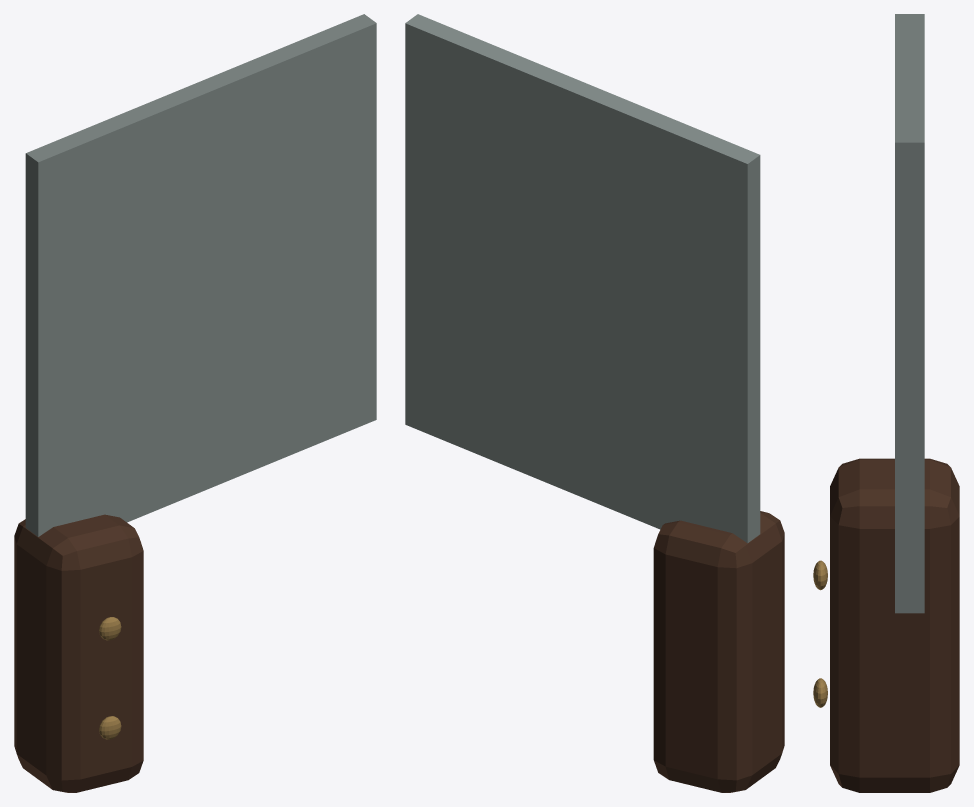
The model's file is Cleaver.fbx.
3 views of the same model, side by side, from view 1: azimuth 30°, elevation 25°; view 2: azimuth 150°, elevation 25°; view 3: azimuth 270°, elevation 25° (orthographic). The views are drawn at different scales.
Visible parts, largest first — view 1: cleaver blade, grip; view 2: cleaver blade, grip; view 3: grip, cleaver blade, rivet, rivet.001.
Boxes of the visible parts, left/top/right/bottom form: cleaver blade: left=25, top=14, right=376, bottom=536; grip: left=14, top=514, right=143, bottom=792; cleaver blade: left=405, top=14, right=760, bottom=543; grip: left=653, top=511, right=784, bottom=792; grip: left=830, top=458, right=959, bottom=792; cleaver blade: left=895, top=14, right=924, bottom=613; rivet: left=813, top=678, right=827, bottom=707; rivet.001: left=813, top=560, right=827, bottom=590.
Bounding box in the file's own units: 12.75 × 24 × 3.95.
